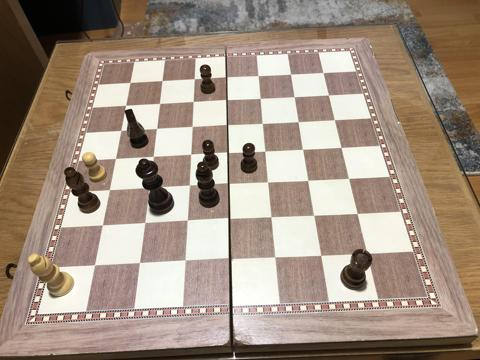xcorner: (260, 146, 273, 159), (352, 209, 365, 222), (309, 211, 322, 224), (266, 213, 279, 226), (319, 66, 332, 78), (286, 68, 299, 80), (254, 69, 266, 82), (156, 74, 168, 87), (221, 94, 234, 106), (119, 99, 131, 112), (331, 114, 343, 127), (150, 123, 162, 136), (299, 144, 311, 157), (222, 148, 235, 160), (146, 152, 159, 164), (108, 154, 121, 166), (102, 186, 115, 198), (224, 215, 236, 228), (181, 217, 193, 230), (138, 219, 150, 232), (96, 221, 108, 234), (362, 249, 374, 262), (316, 251, 328, 264), (224, 256, 237, 268), (133, 260, 146, 272), (221, 71, 233, 83), (188, 73, 200, 85), (123, 76, 135, 88), (325, 89, 337, 101), (290, 91, 302, 103), (256, 93, 268, 105), (187, 96, 199, 108), (153, 98, 165, 110), (294, 116, 306, 128), (258, 118, 270, 130), (222, 120, 234, 132), (186, 122, 198, 134), (114, 125, 126, 137), (337, 143, 349, 155), (184, 150, 196, 162), (344, 174, 356, 186), (304, 176, 316, 188), (263, 178, 275, 190), (223, 180, 235, 192), (183, 182, 195, 194), (143, 184, 155, 196), (270, 254, 282, 266), (179, 258, 191, 270), (88, 262, 100, 274)
